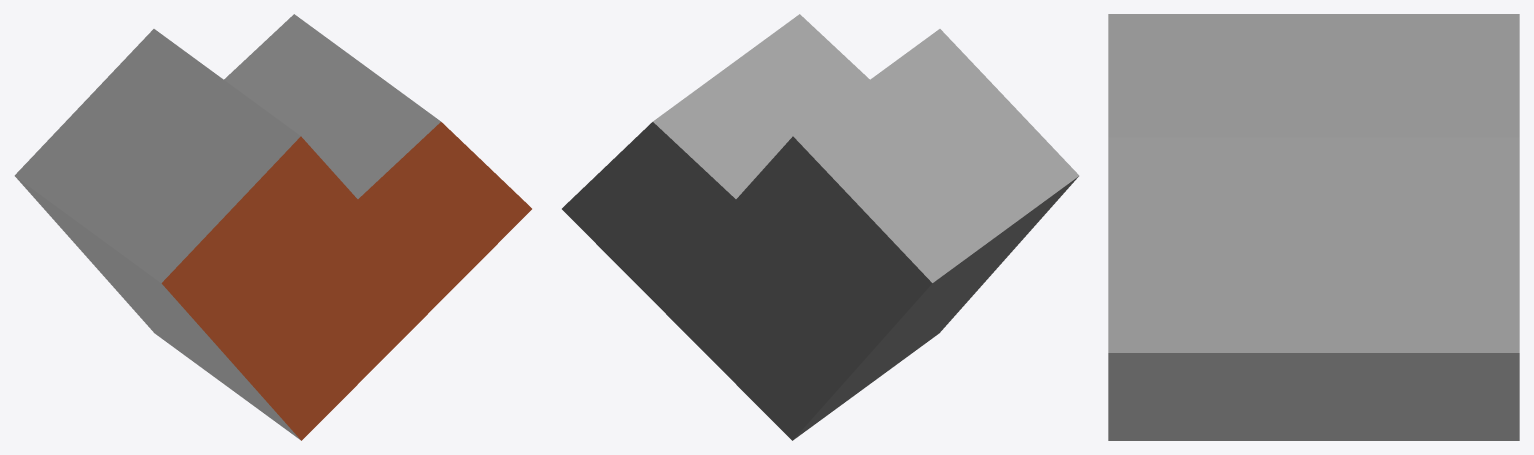
The model's file is construction_3298_assumed_A_Casa_h6m.obj.
3 views of the same model, side by side, from view 1: azimuth 30°, elevation 25°; view 2: azimuth 150°, elevation 25°; view 3: azimuth 270°, elevation 25° (orthographic). The views are drawn at different scales.
Visible parts, largest first — view 1: construction_3298_assumed_A_Casa; view 2: construction_3298_assumed_A_Casa; view 3: construction_3298_assumed_A_Casa.
Part boxes in pixels (left/top/right/bottom): construction_3298_assumed_A_Casa: left=14, top=14, right=531, bottom=440; construction_3298_assumed_A_Casa: left=562, top=14, right=1079, bottom=440; construction_3298_assumed_A_Casa: left=1108, top=14, right=1519, bottom=440.
Size of the model in its own units: 8.74 by 6.87 by 6.
